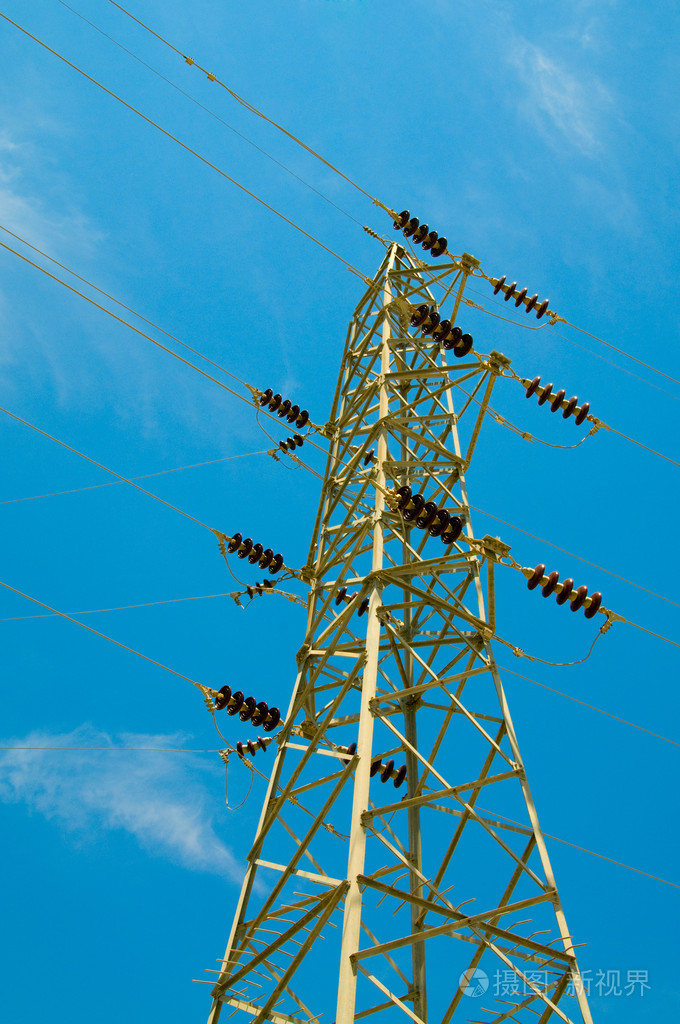insulator: (522, 562, 602, 617), (393, 485, 463, 547), (524, 374, 591, 426), (410, 304, 473, 358), (210, 684, 277, 734), (488, 278, 553, 321), (391, 208, 446, 255), (225, 533, 283, 574), (260, 388, 307, 434), (362, 753, 405, 788), (232, 739, 272, 762), (276, 433, 308, 454), (247, 581, 273, 597)
